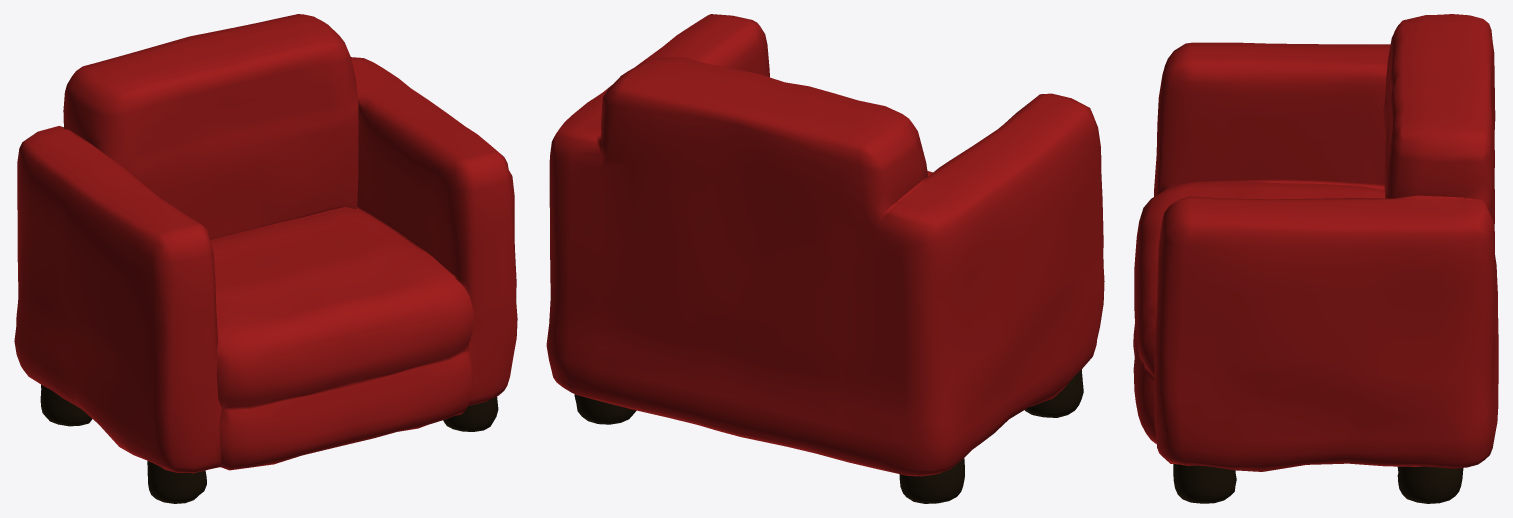
Rendered from chair.glb.
3 views of the same model, side by side, from view 1: azimuth 30°, elevation 25°; view 2: azimuth 150°, elevation 25°; view 3: azimuth 270°, elevation 25° (orthographic). The views are drawn at different scales.
Visible parts, largest first — view 1: node_id30; view 2: node_id30; view 3: node_id30.
Boxes of the visible parts, <box> form: node_id30: <box>14,14,517,503</box>; node_id30: <box>546,14,1104,503</box>; node_id30: <box>1133,14,1498,503</box>.
Size of the model in its own units: 0.512 by 0.4282 by 0.4084.
1 material, 1 textured.
